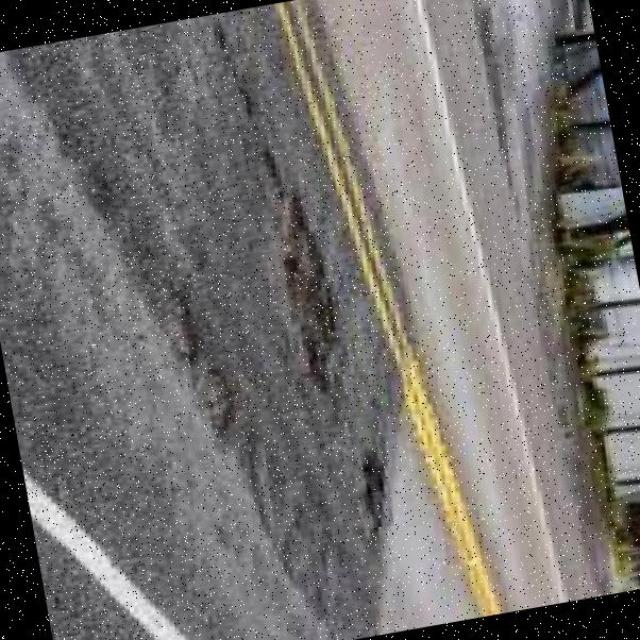pothole: (249, 51, 428, 544), (312, 107, 366, 198)
